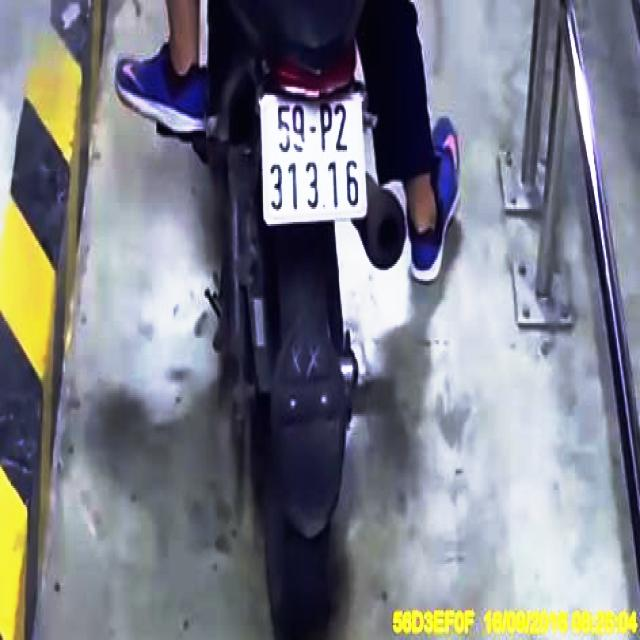license_plate: (262, 94, 367, 222)
